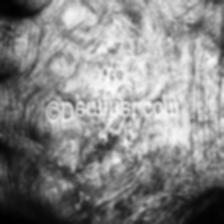Potentially Malignant Skin Tumors: (94, 124, 125, 156), (106, 55, 132, 88)
